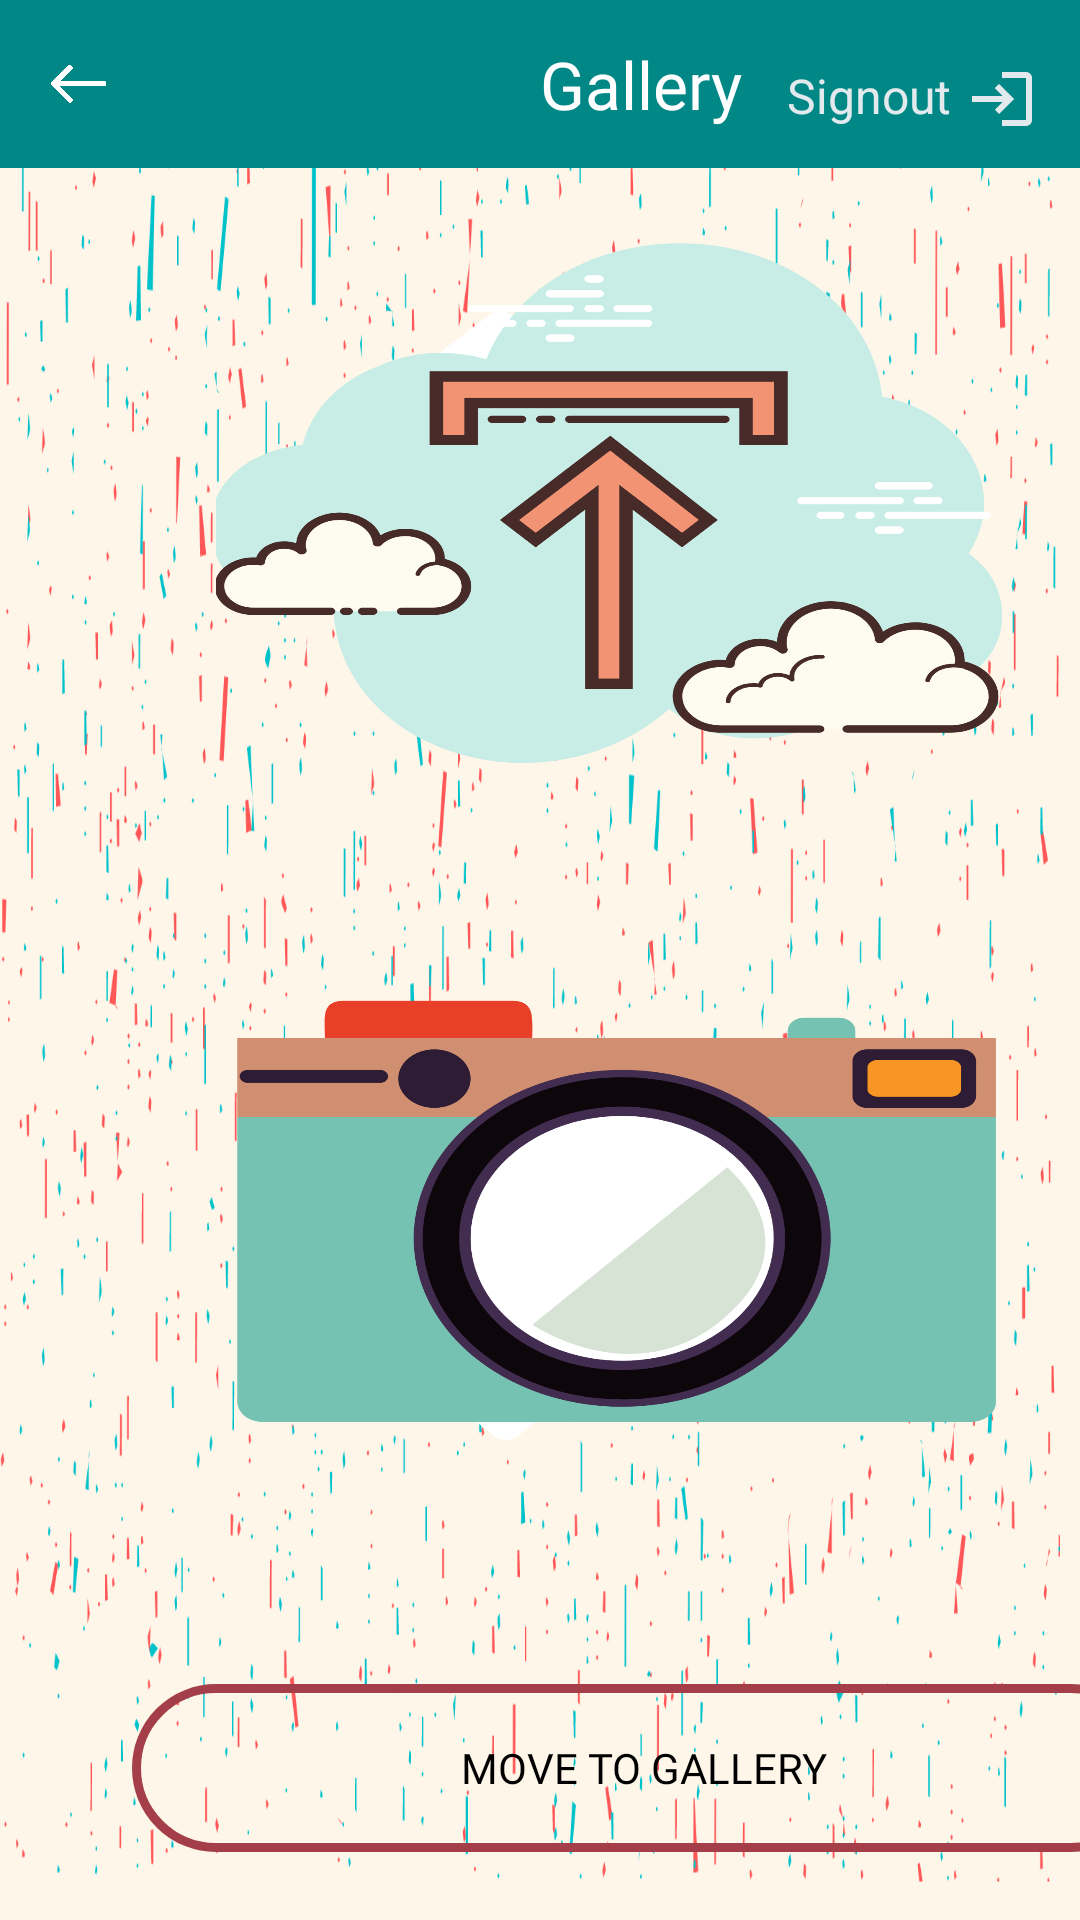

Icon click points for this 1080w x 1920h phone screenshot, format (x=x, y=y):
back: (x=78, y=84)
